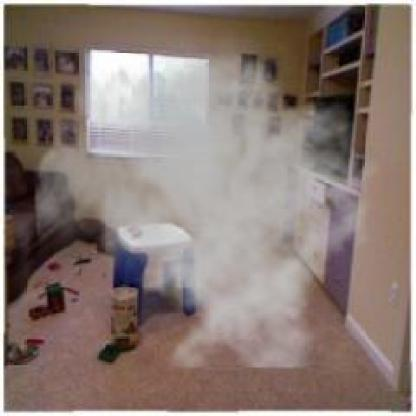Smoke: (33, 20, 383, 368)
